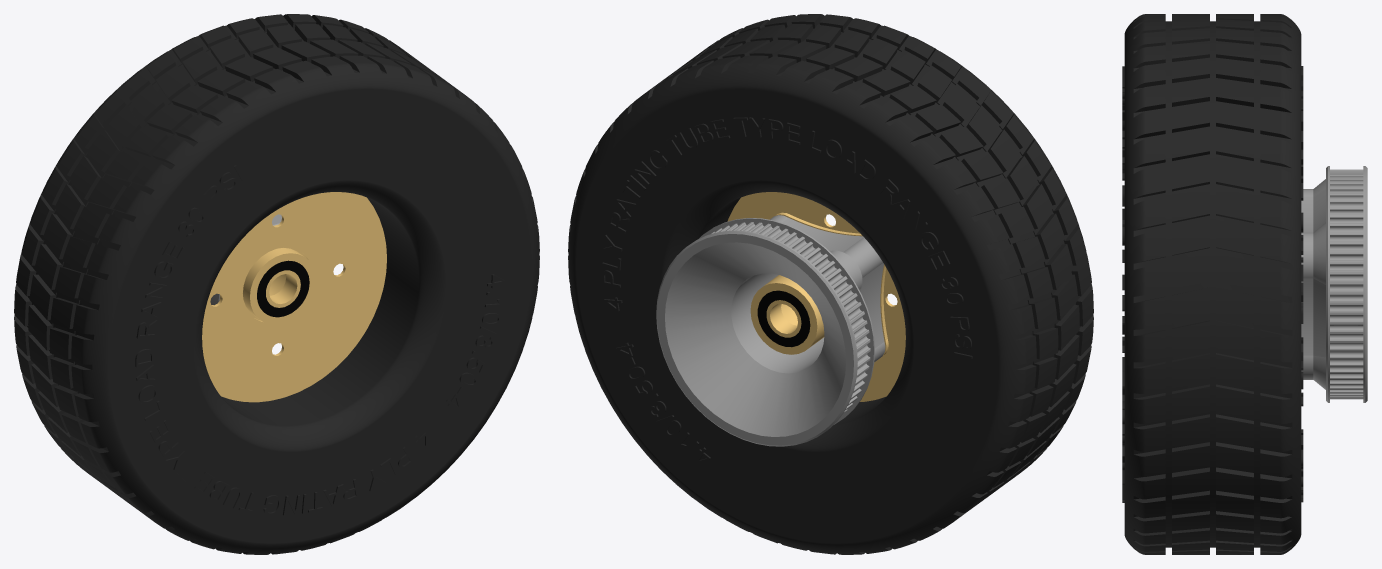
The model's file is wheel_asspmbly_urdf_left.obj.
3 views of the same model, side by side, from view 1: azimuth 30°, elevation 25°; view 2: azimuth 150°, elevation 25°; view 3: azimuth 270°, elevation 25° (orthographic). The views are drawn at different scales.
Parts seen in each view (by area): view 1: Body1, Body2, Body1:3, Body1:2, Body2:1; view 2: Body1, Body1:1, Body2, Body1:4, Body1:3, Body4, Body3; view 3: Body1, Body1:1.
Part boxes in pixels (box(x1,y1,x2,y2)): Body1: box(14, 14, 539, 554); Body2: box(202, 192, 386, 402); Body1:3: box(219, 224, 316, 324); Body1:2: box(257, 260, 309, 317); Body2:1: box(266, 270, 300, 307); Body1: box(568, 14, 1093, 554); Body1:1: box(656, 218, 874, 446); Body2: box(727, 192, 905, 401); Body1:4: box(747, 215, 885, 361); Body1:3: box(750, 212, 888, 357); Body4: box(757, 290, 810, 347); Body3: box(766, 300, 801, 337); Body1: box(1122, 14, 1303, 554); Body1:1: box(1301, 166, 1367, 402).
Bounding box in the file's own units: 260 × 260 × 118.
